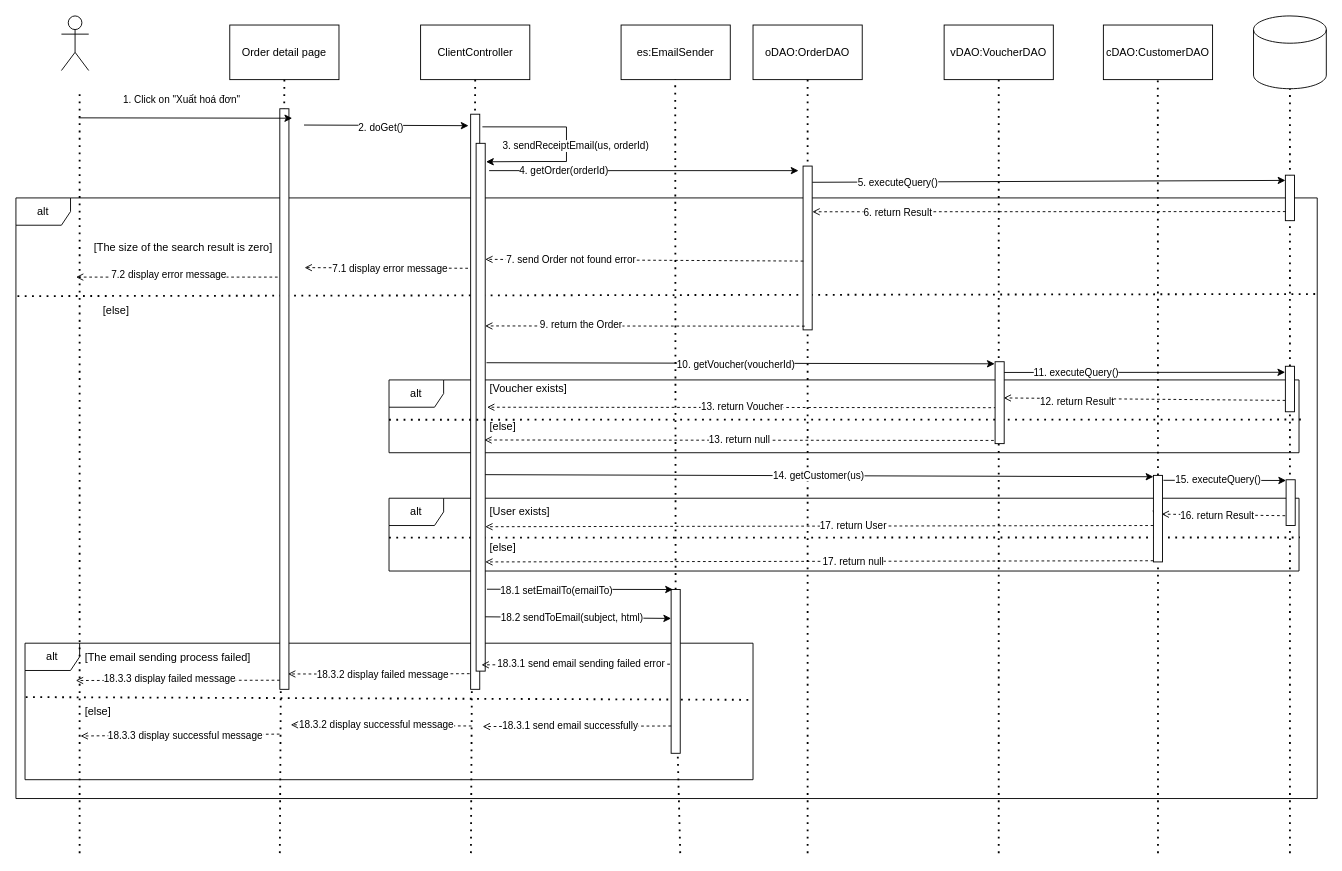
Image size: 1342x871. Some labels were removed from this diagram. The shapes that lost their labels are listed below. From the top down, each one's centre as x and y in pixels, then its label:
At [75,43]: "Customer".
At [1289,52]: "DB".
